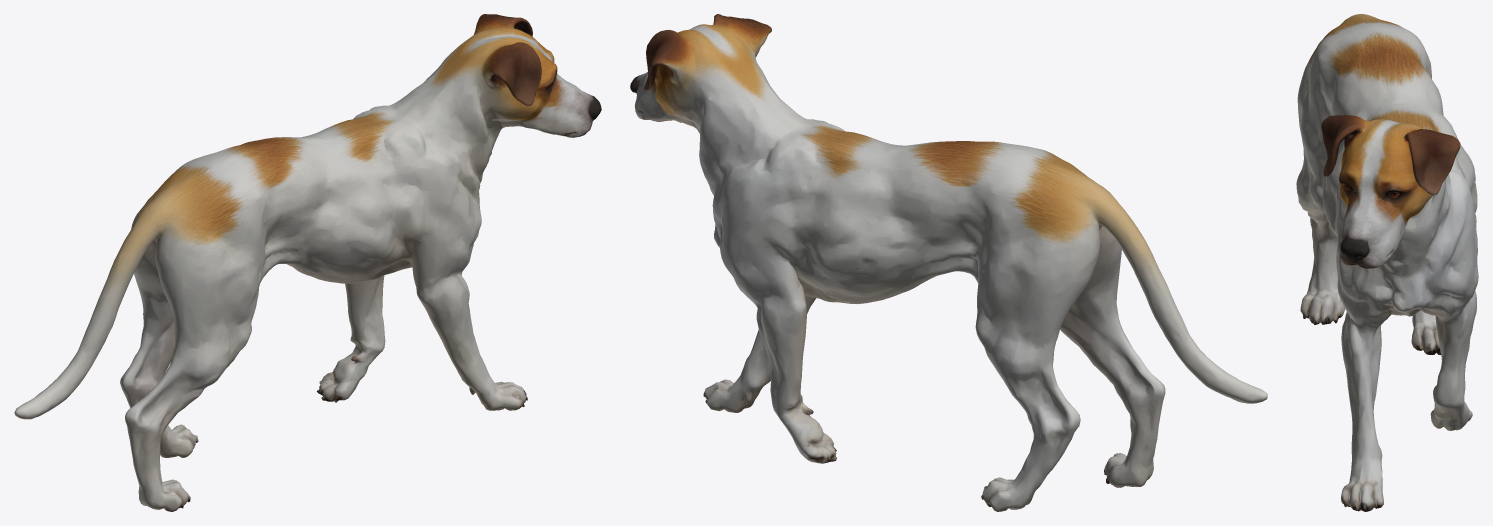
File: dog-walking.glb
The picture shows the model from 3 angles, left to right: view 1: azimuth 30°, elevation 25°; view 2: azimuth 150°, elevation 25°; view 3: azimuth 270°, elevation 25°; orthographic projection. The views are drawn at different scales.
Visible parts, largest first — view 1: tripo_node_f3bf42da-dc6f-487b-92a7-b50602af55d6; view 2: tripo_node_f3bf42da-dc6f-487b-92a7-b50602af55d6; view 3: tripo_node_f3bf42da-dc6f-487b-92a7-b50602af55d6.
Boxes of the visible parts, box(x1,y1,x2,y2) form: tripo_node_f3bf42da-dc6f-487b-92a7-b50602af55d6: box(14, 14, 601, 511); tripo_node_f3bf42da-dc6f-487b-92a7-b50602af55d6: box(630, 14, 1267, 511); tripo_node_f3bf42da-dc6f-487b-92a7-b50602af55d6: box(1296, 14, 1478, 511).
Bounding box in the file's own units: 1.02 × 0.6 × 0.2551.
Materials: 1 (1 with a texture image).
